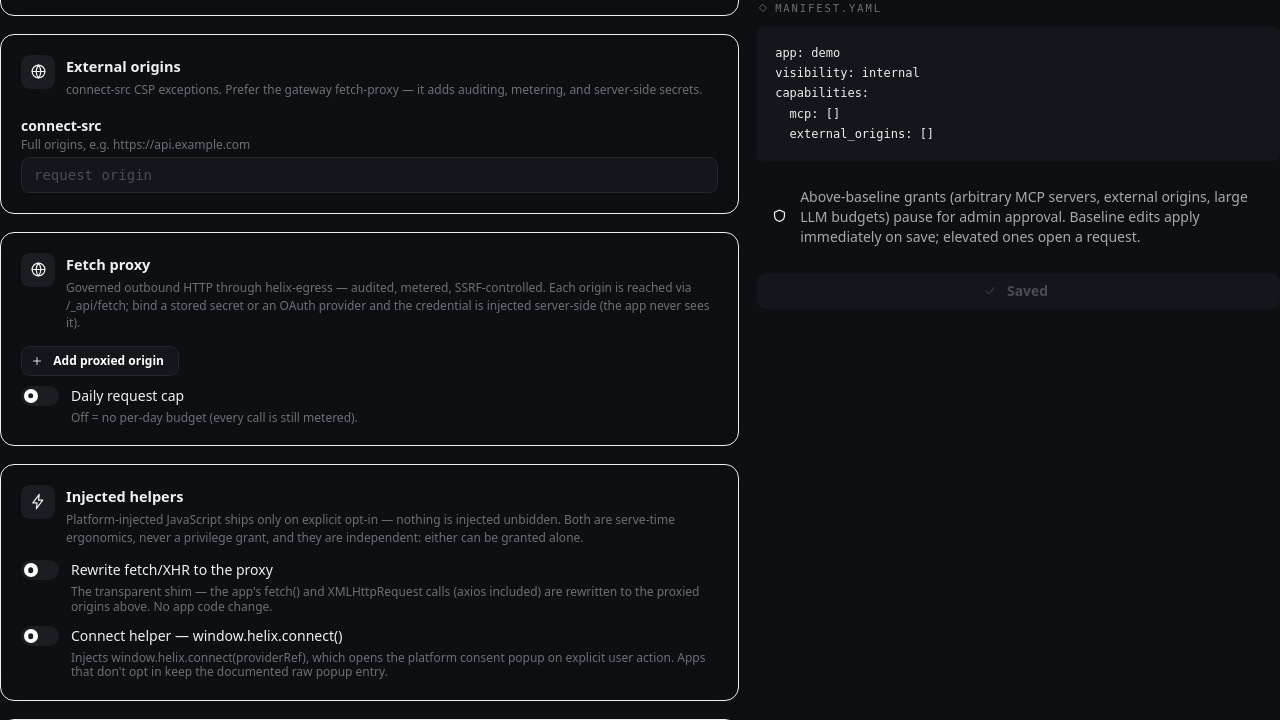
Test case: CapabilitiesTab — the credential select (spec decision 28) › mirrors the server across environments: the origin must be a destination of EVERY tier the ref is configured in
(page scrolled)
Click the button "Add proxied origin" at (100, 361), box [21,346,179,376]
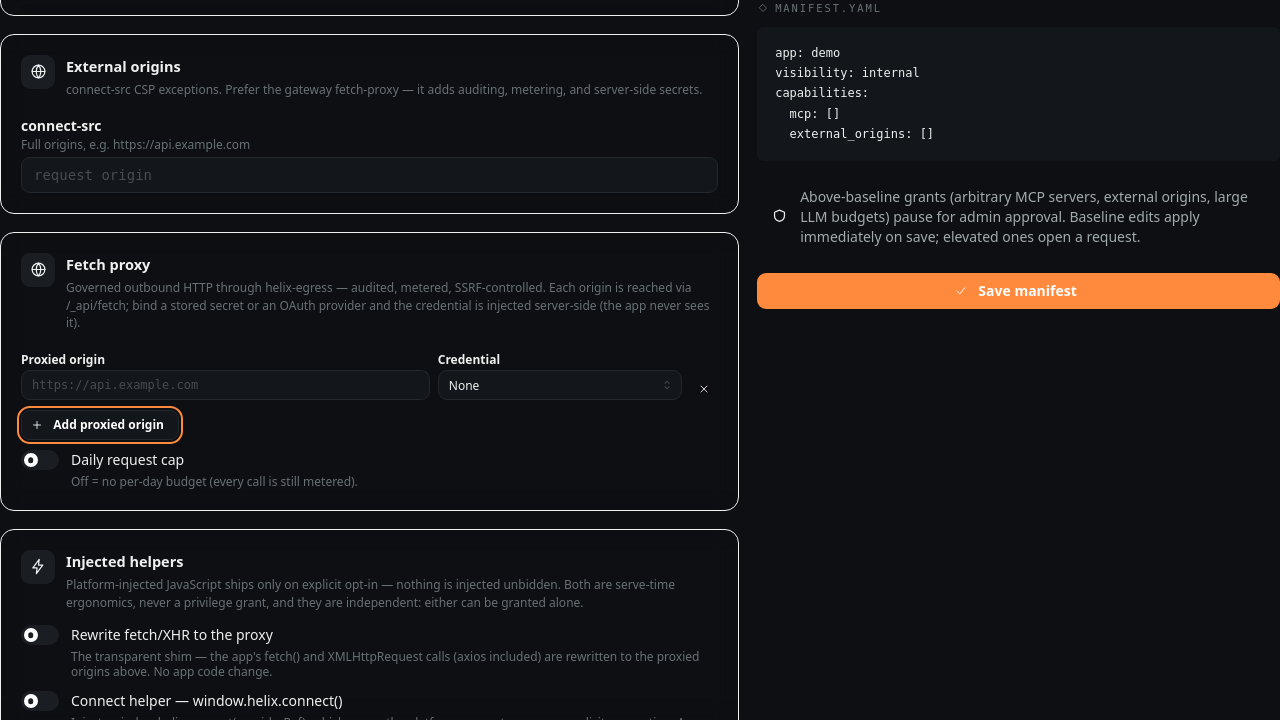
Type "https://dev.asana.com" into the field with placeholder "https://api.example.com" at (225, 385), box [21,370,430,400]
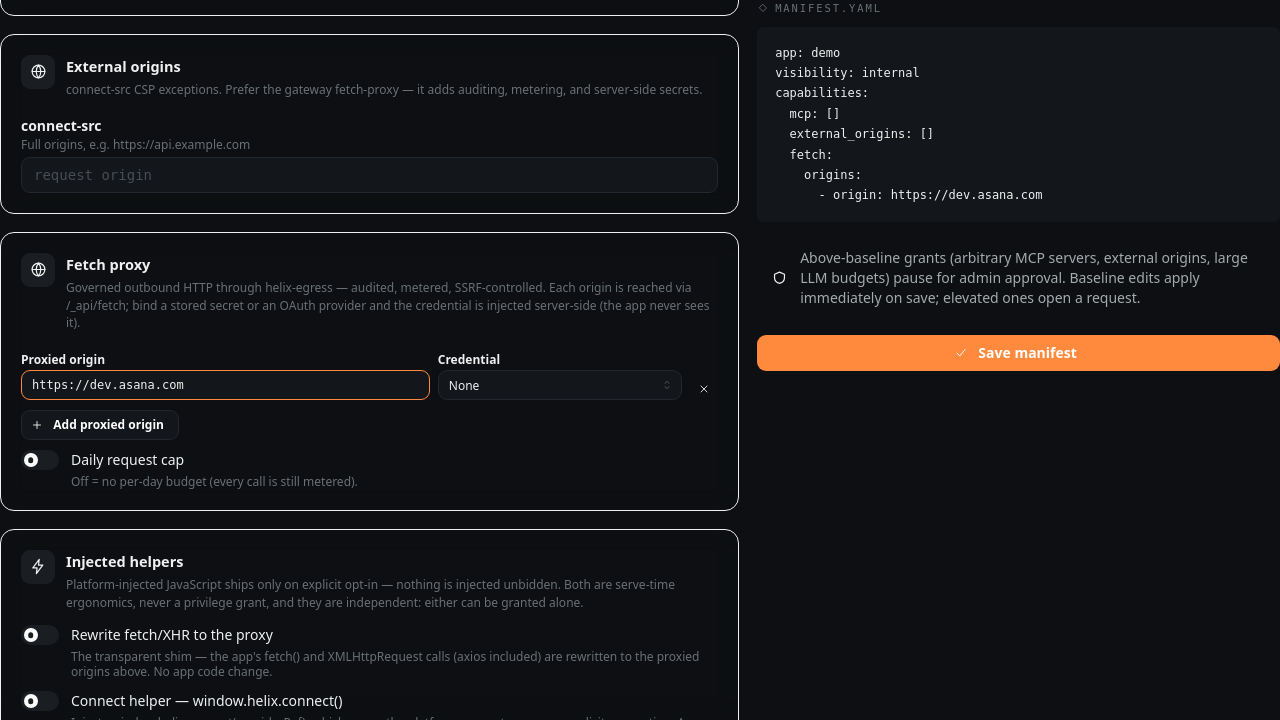
Click the dropdown labelled "Credential" at (560, 385), box [438,370,682,400]
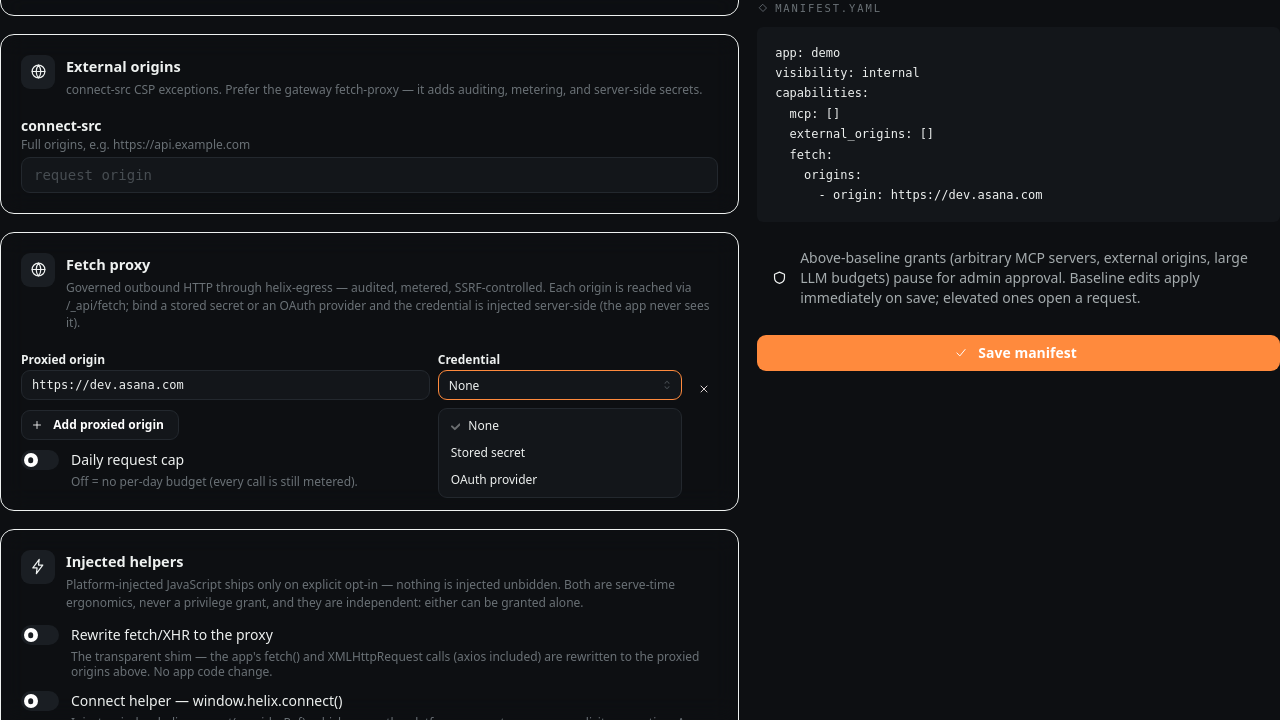
Click the option "OAuth provider" at (494, 479), box [451,471,537,488]
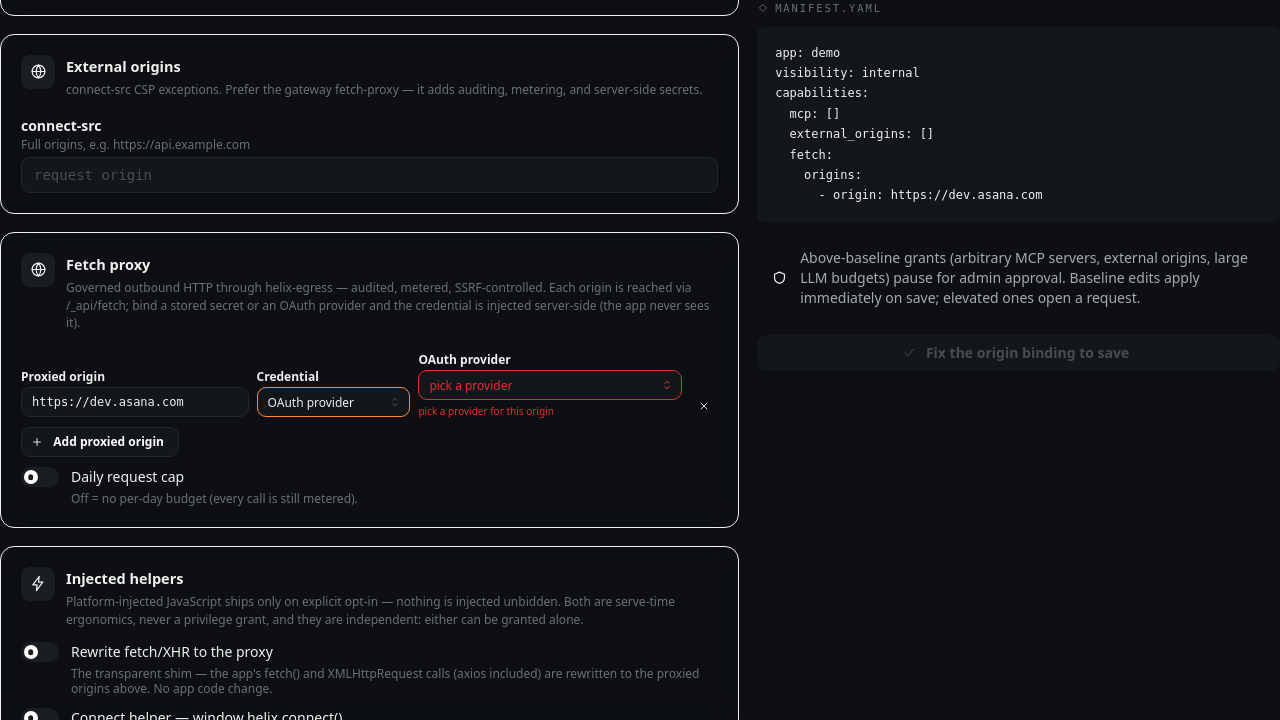
Click the dropdown labelled "OAuth provider" at (550, 385), box [418,370,682,400]
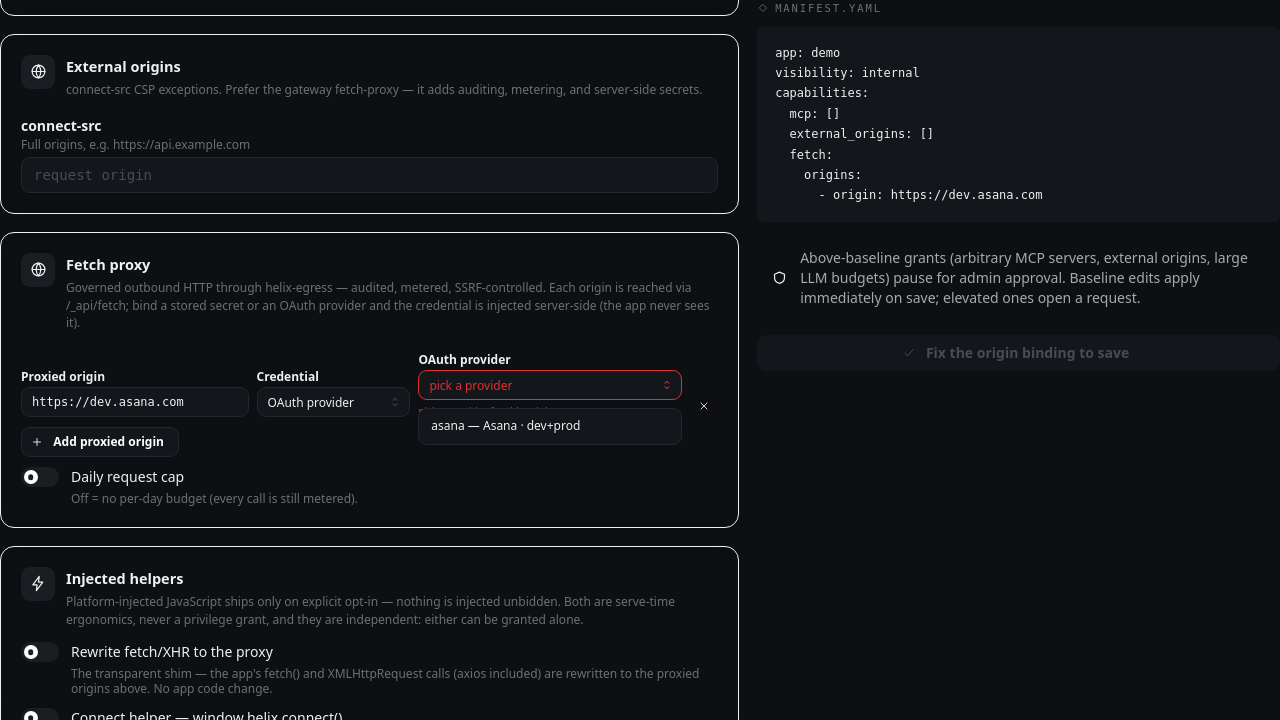
Click the option "asana — Asana · dev+prod" at (506, 426), box [431,417,580,434]
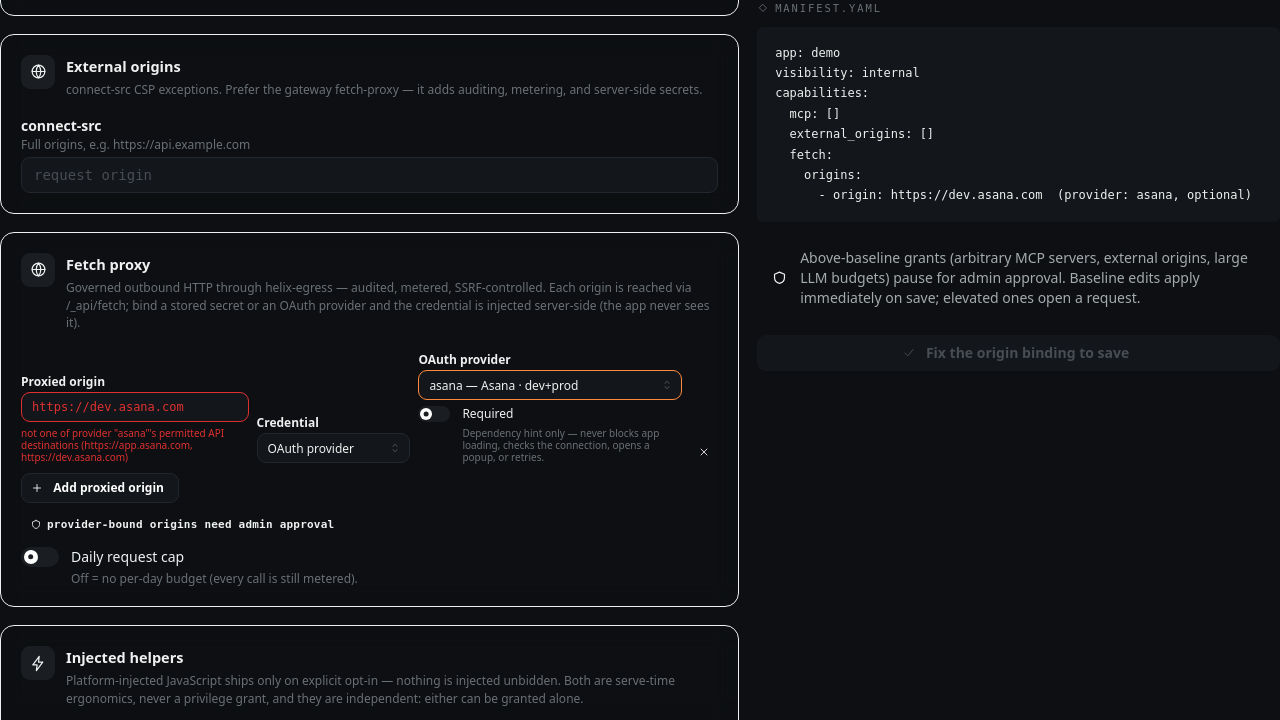
Result: the text "not one of provider \"asana\"'s permitted API destinations" is shown at [21,426,224,464]
